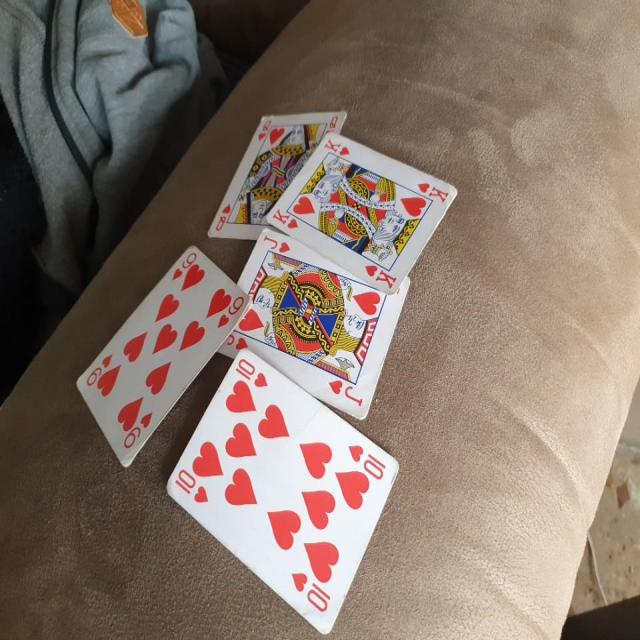10 Hearts: (162, 346, 395, 640)
9 Hearts: (75, 228, 254, 481)
J Hearts: (218, 232, 407, 415)
K Hearts: (270, 134, 460, 292)
Q Hearts: (207, 107, 342, 250)
